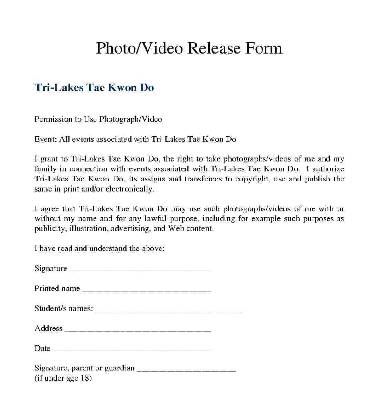textline: (51, 337, 215, 356), (63, 316, 215, 335), (67, 256, 215, 275), (93, 297, 245, 314), (81, 278, 215, 295), (136, 354, 238, 374)
